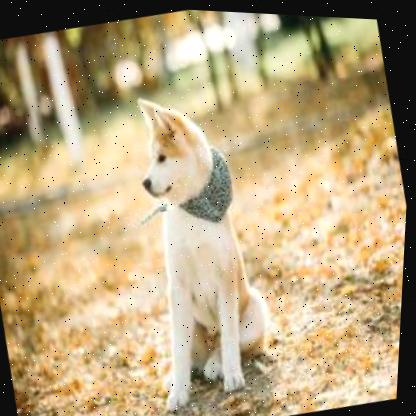dog: (99, 75, 296, 416)
